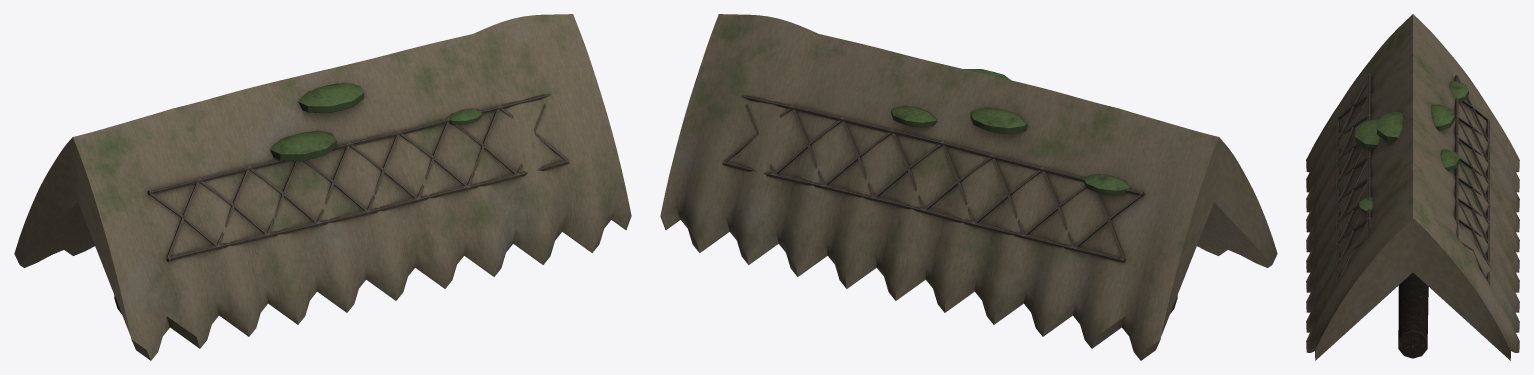
File: HutRidge.fbx
The picture shows the model from 3 angles, left to right: view 1: azimuth 30°, elevation 25°; view 2: azimuth 150°, elevation 25°; view 3: azimuth 270°, elevation 25°; orthographic projection. The views are drawn at different scales.
Parts seen in each view (by area): view 1: HutRidge; view 2: HutRidge; view 3: HutRidge.
Boxes of the visible parts, x1,y1,x2,y2 form: HutRidge: [14, 14, 631, 360]; HutRidge: [660, 14, 1277, 360]; HutRidge: [1306, 14, 1519, 360].
Bounding box in the file's own units: 1000 × 389 × 441.
